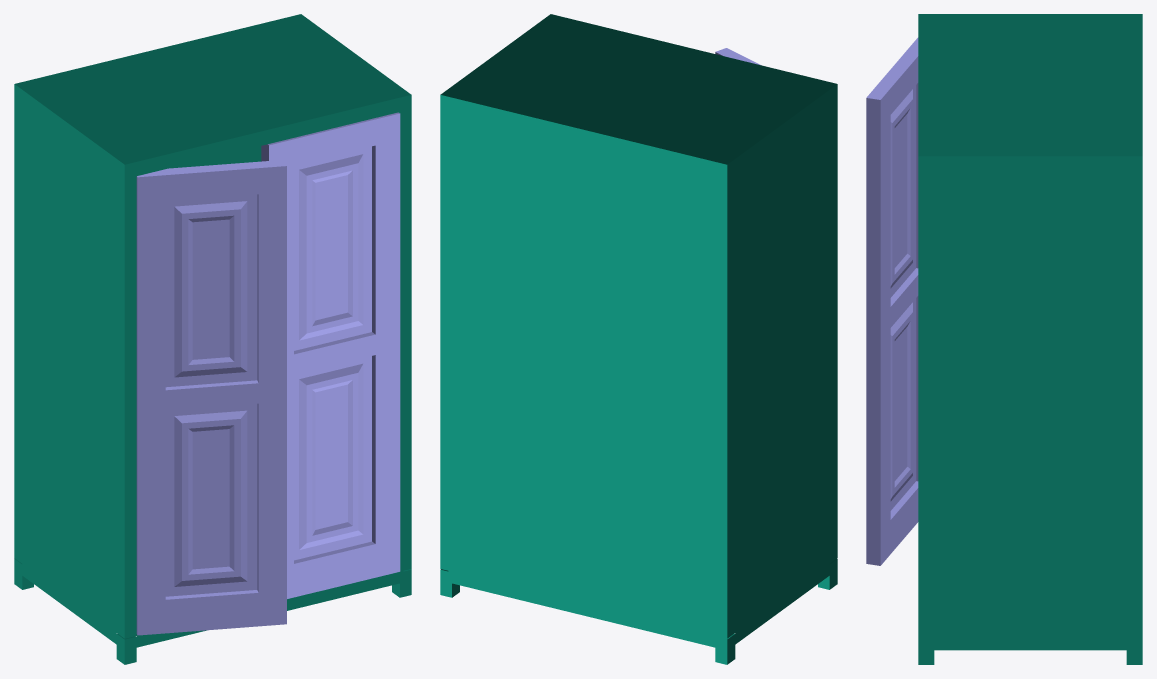
File: kastje_goeie_pivot_point.obj
3 renders of one model, left to right at view 1: azimuth 30°, elevation 25°; view 2: azimuth 150°, elevation 25°; view 3: azimuth 270°, elevation 25°, orthographic.
Parts seen in each view (by area): view 1: kast_frame, deur_links, deur_rechts; view 2: kast_frame; view 3: kast_frame, deur_links.
Boxes of the visible parts, x1,y1,x2,y2 form: kast_frame: [14, 14, 411, 664]; deur_links: [136, 160, 286, 635]; deur_rechts: [261, 112, 400, 598]; kast_frame: [440, 14, 837, 664]; kast_frame: [918, 14, 1142, 664]; deur_links: [866, 37, 918, 565].
Size of the model in its own units: 76.2 by 127 by 62.57.
